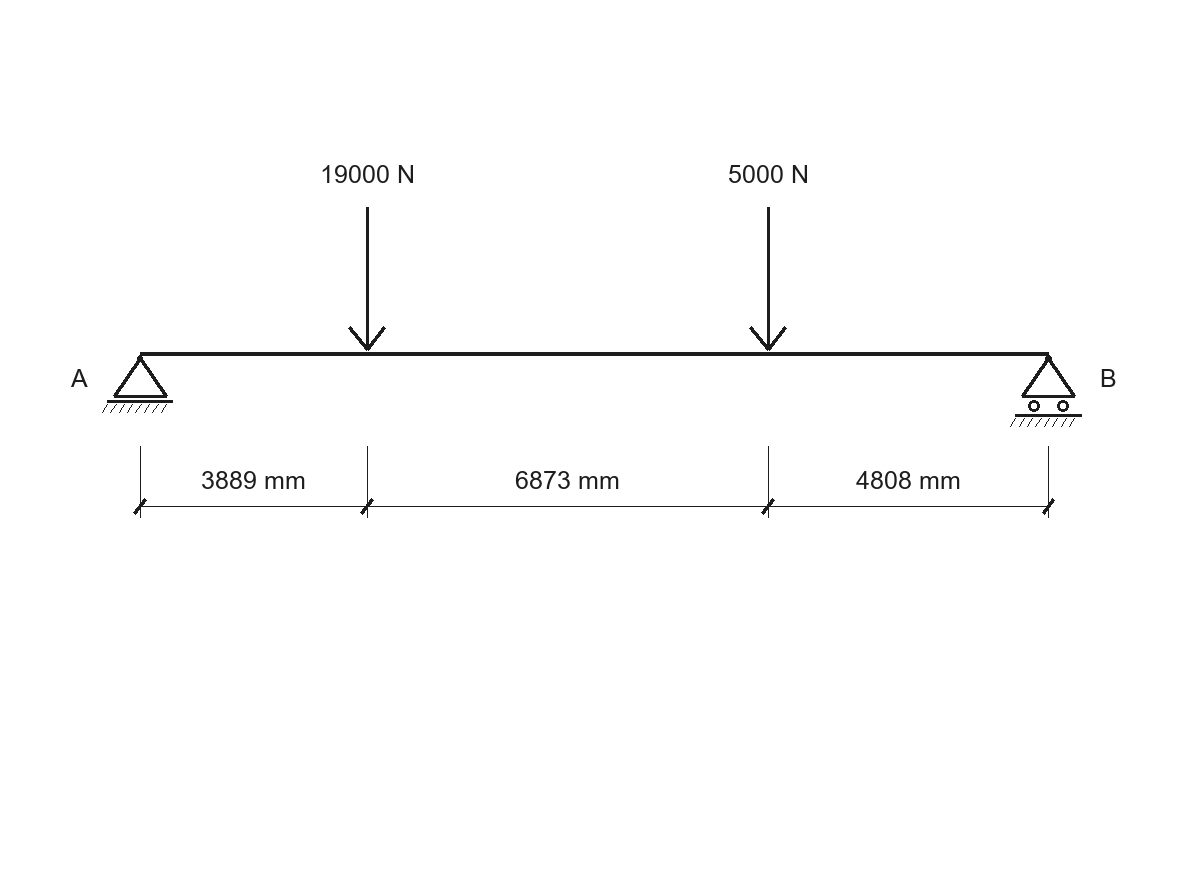pin_support: (102, 355, 173, 413)
point_load: (348, 207, 386, 351), (749, 207, 787, 351)
roller_support: (1010, 355, 1082, 427)
